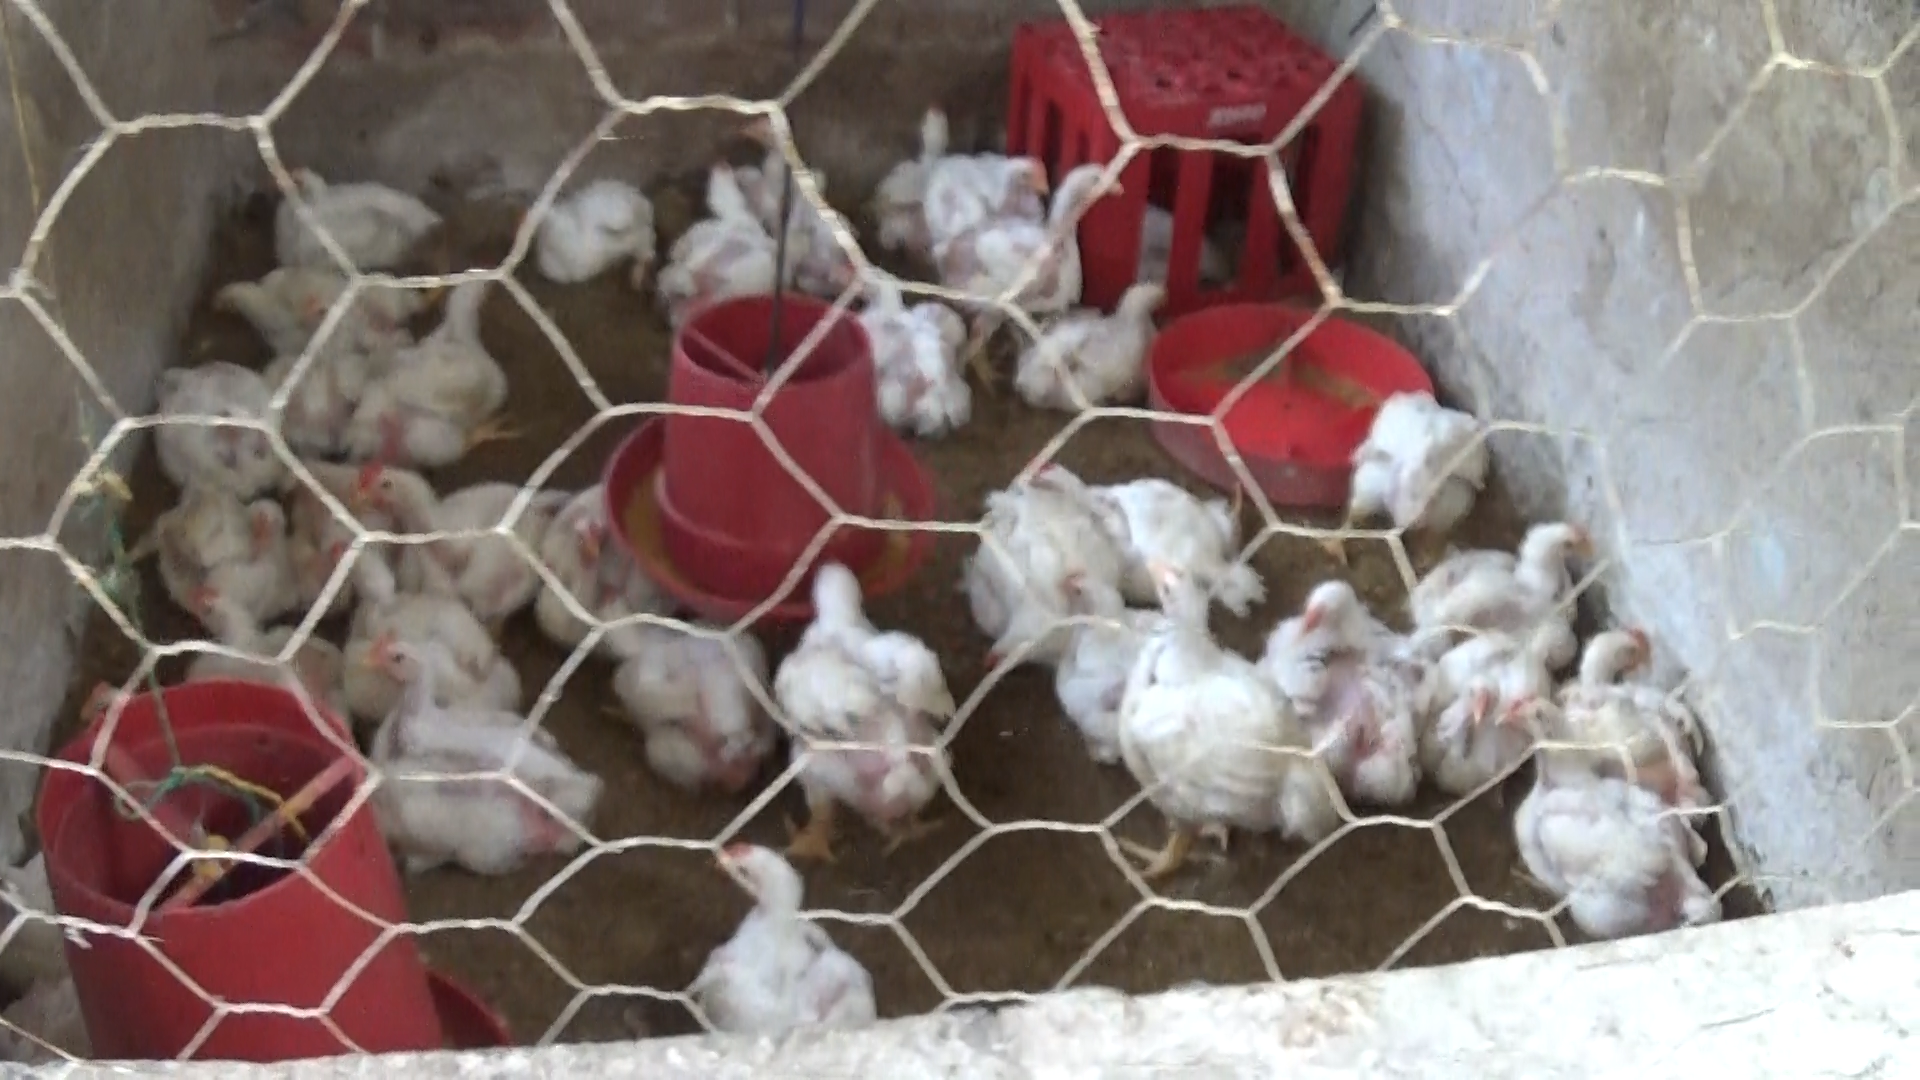Pollos: (1131, 553, 1381, 884), (948, 444, 1236, 670), (760, 550, 971, 841), (327, 647, 607, 855), (1497, 678, 1695, 948), (692, 808, 884, 1026), (593, 601, 800, 798), (342, 456, 585, 622), (316, 526, 527, 713), (951, 160, 1114, 382), (356, 261, 524, 465), (1346, 384, 1509, 567), (835, 251, 975, 442), (146, 562, 342, 694), (125, 484, 313, 617), (1007, 266, 1164, 419), (1427, 504, 1611, 628), (666, 129, 783, 314), (247, 156, 448, 261), (295, 281, 430, 436), (138, 336, 297, 462), (1424, 655, 1556, 800), (191, 236, 363, 344), (542, 472, 658, 632), (1055, 556, 1159, 733), (927, 127, 1058, 265), (717, 100, 843, 244), (531, 160, 662, 295), (878, 76, 980, 235), (1254, 575, 1382, 673), (1565, 611, 1676, 716)
